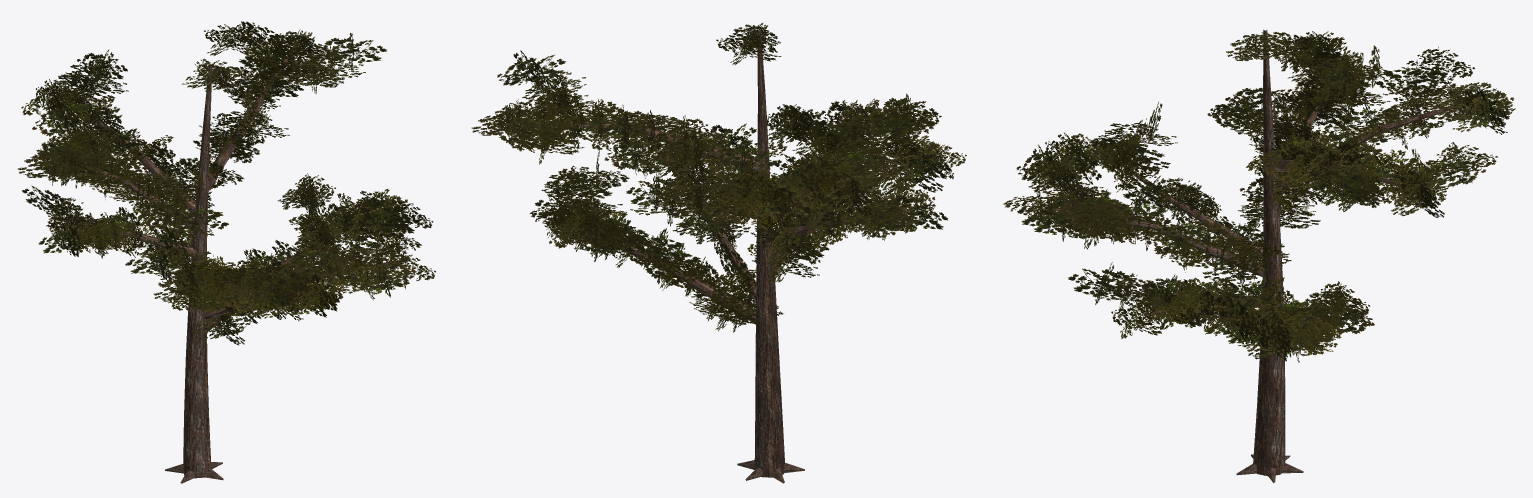
Rendered from tree_3d_04_lod1.glb.
3 renders of one model, left to right at view 1: azimuth 30°, elevation 25°; view 2: azimuth 150°, elevation 25°; view 3: azimuth 270°, elevation 25°, orthographic. The views are drawn at different scales.
Parts seen in each view (by area): view 1: foliage_cards, wood_geometry; view 2: foliage_cards, wood_geometry; view 3: foliage_cards, wood_geometry.
Part boxes in pixels (<box>): foliage_cards: <box>18,21,435,345</box>; wood_geometry: <box>66,49,410,483</box>; foliage_cards: <box>471,23,966,332</box>; wood_geometry: <box>515,30,929,483</box>; foliage_cards: <box>1003,31,1515,362</box>; wood_geometry: <box>1047,30,1470,482</box>.
Bounding box in the file's own units: 8.12 × 8.31 × 8.72.
Materials: 2 (2 with a texture image).
